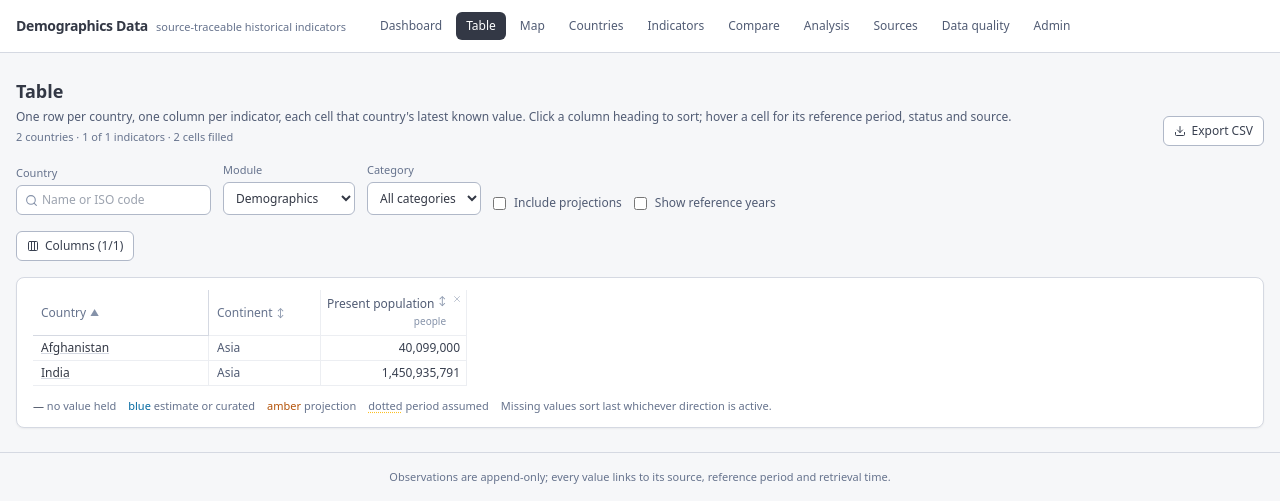
Test case: pages render › hiding a column removes its data cells as well as its heading
This screenshot has width=1280, height=501.
Expected: the link "India" is shown, [41, 364, 70, 381]
Click the button named "Hide Present population": coordinates (457, 299) [450, 292, 464, 306]
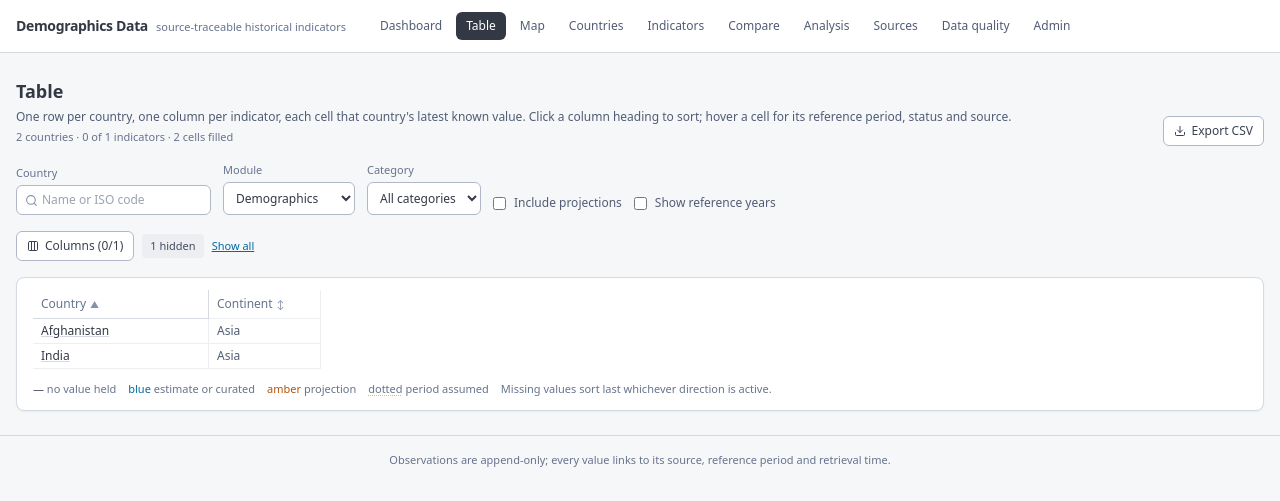
Now the button "Present population" is gone
